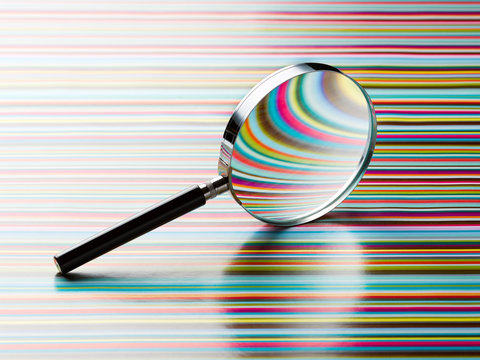magnifying-glass: (200, 48, 383, 238)
